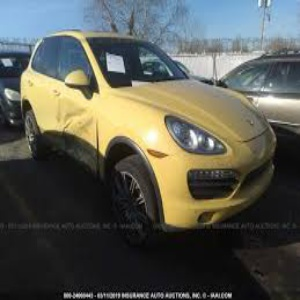door: (50, 96, 100, 172)
